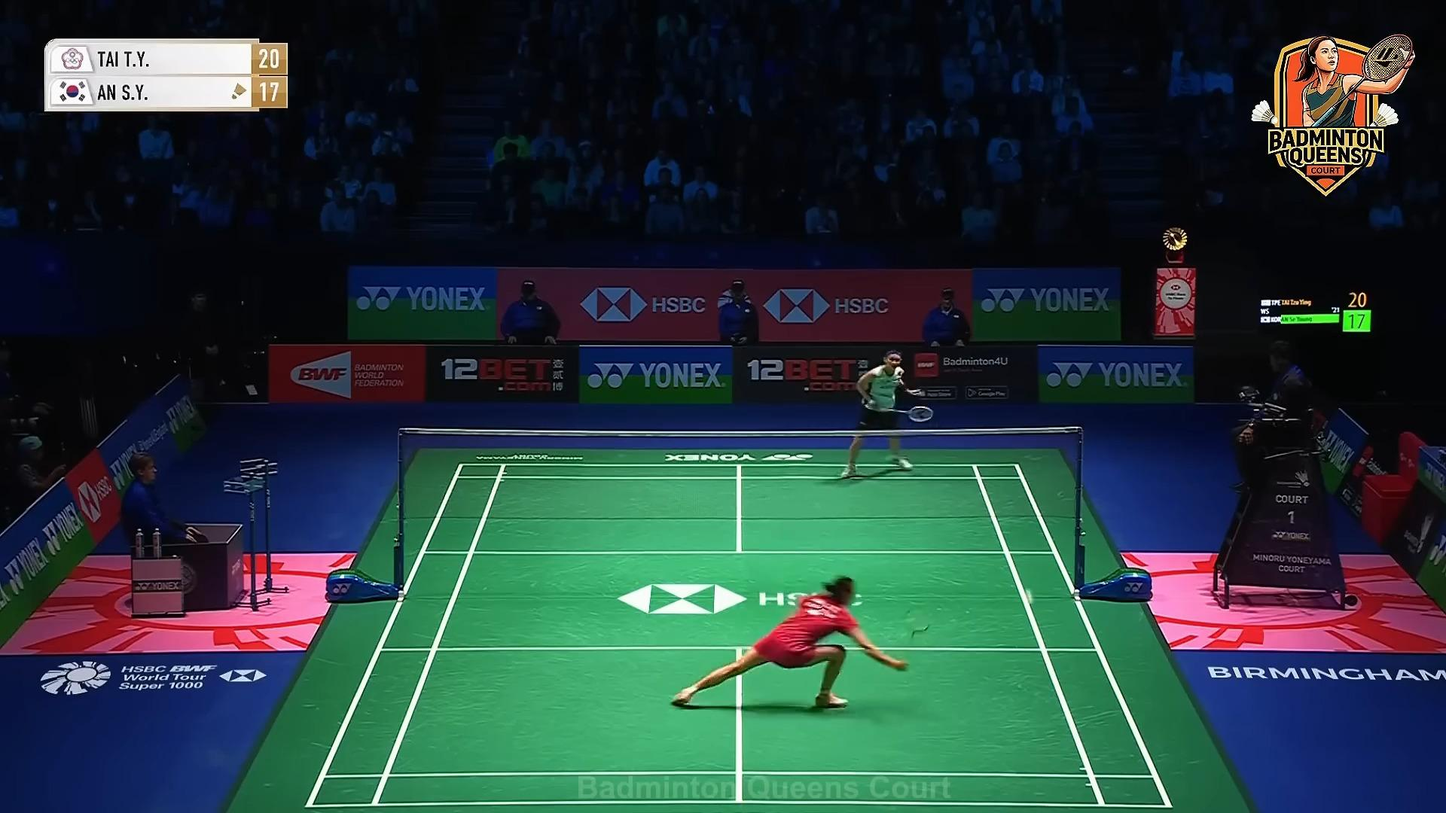shuttlecock: (1025, 589, 1034, 605)
